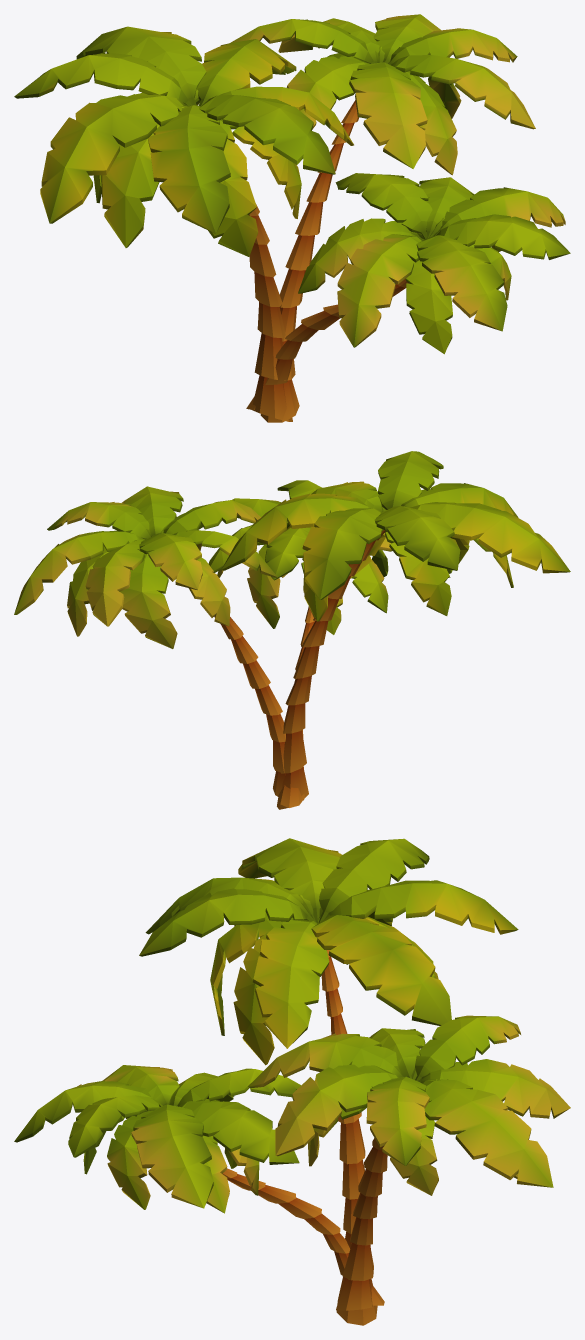
Rendered from palmtrees.fbx.
3 renders of one model, top to bottom at view 1: azimuth 30°, elevation 25°; view 2: azimuth 150°, elevation 25°; view 3: azimuth 270°, elevation 25°, orthographic. The views are drawn at different scales.
Visible parts, largest first — view 1: PalmTreeBig, PalmTreeSmall, PalmTreeMedium; view 2: PalmTreeBig, PalmTreeMedium, PalmTreeSmall; view 3: PalmTreeBig, PalmTreeMedium, PalmTreeSmall.
Boxes of the visible parts, <box> form: PalmTreeBig: <box>14,26,353,421</box>; PalmTreeSmall: <box>246,173,570,409</box>; PalmTreeMedium: <box>230,14,535,422</box>; PalmTreeBig: <box>221,451,570,809</box>; PalmTreeMedium: <box>14,486,304,800</box>; PalmTreeSmall: <box>198,480,450,807</box>; PalmTreeBig: <box>139,838,518,1325</box>; PalmTreeMedium: <box>248,1015,570,1310</box>; PalmTreeSmall: <box>14,1065,384,1305</box>.
Size of the model in its own units: 1093 by 762 by 970.
